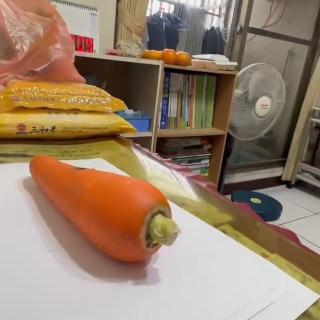carrot: (28, 153, 176, 264)
